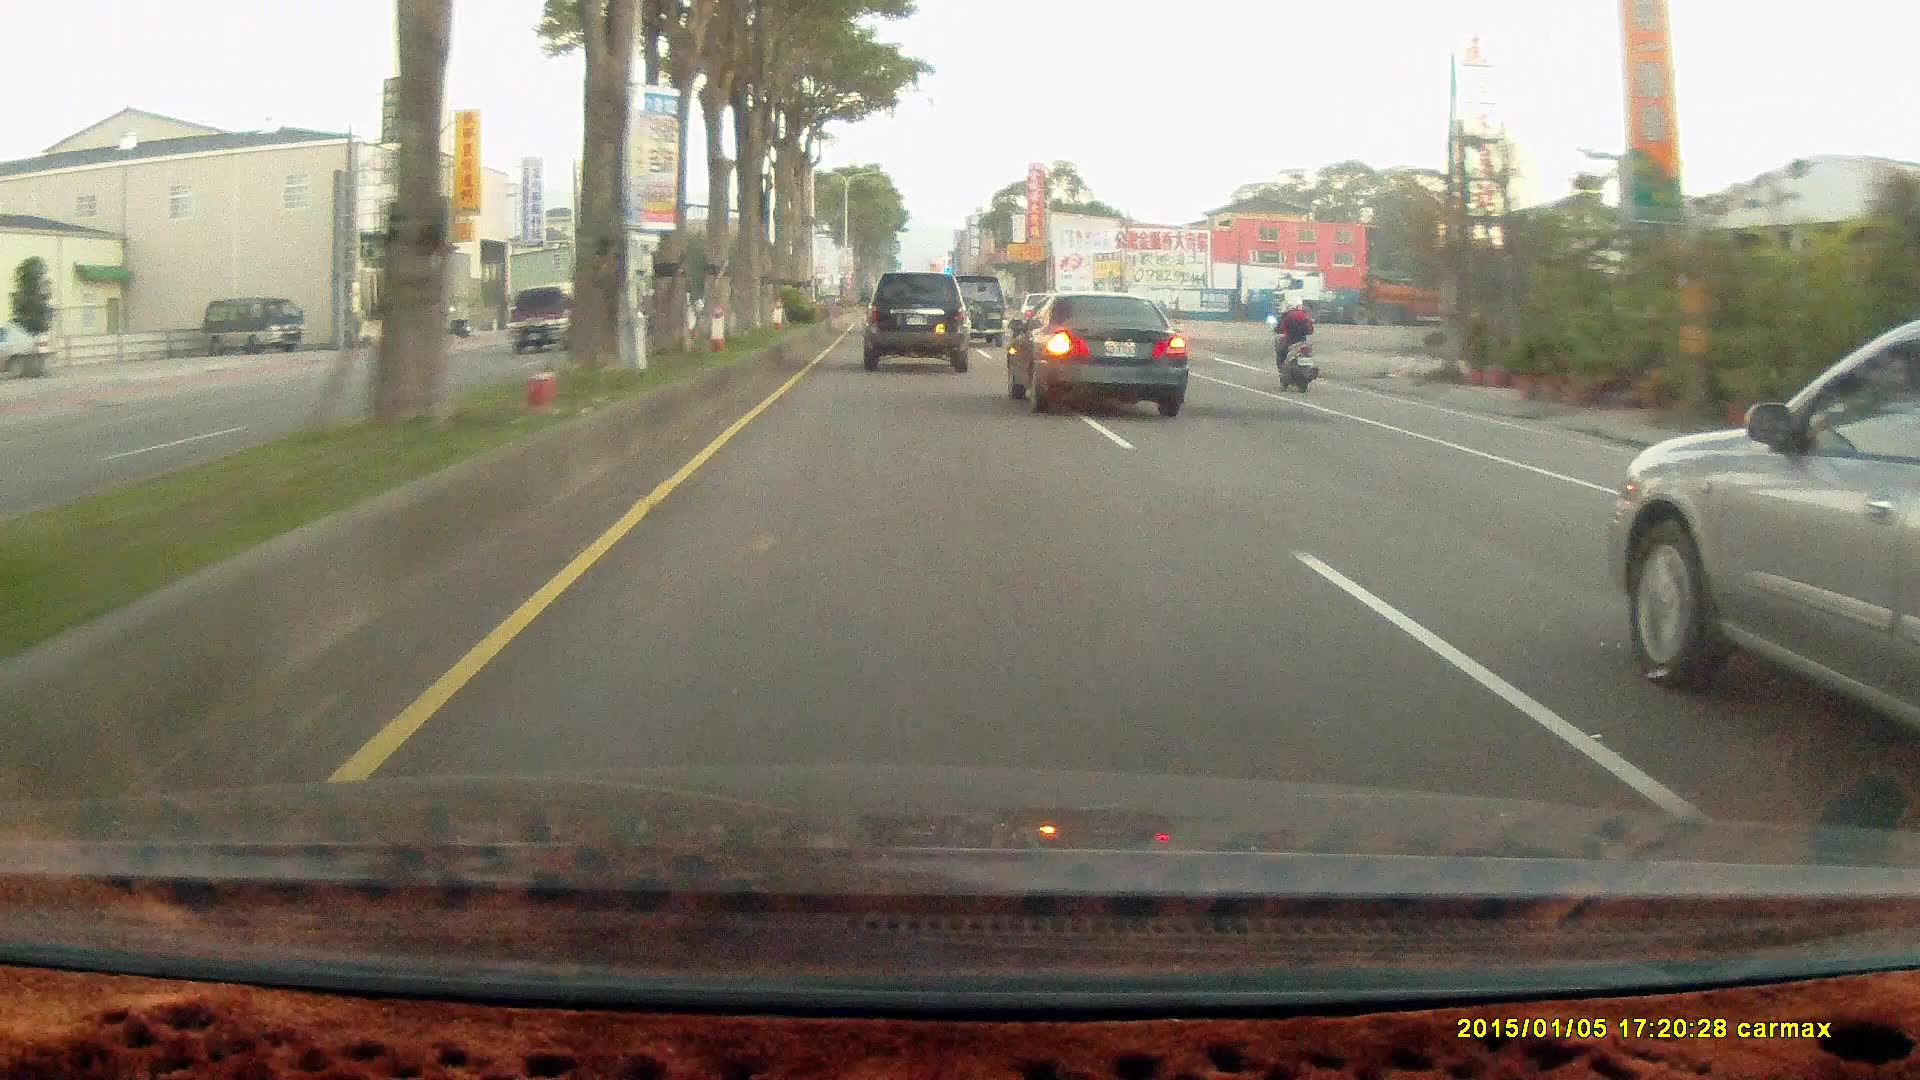rider: (1259, 289, 1327, 399), (1267, 289, 1321, 391)
vehicle: (1608, 312, 1919, 763), (1006, 289, 1193, 413), (1005, 290, 1188, 417), (1277, 264, 1518, 321), (862, 267, 974, 370), (858, 270, 967, 369), (201, 295, 304, 353), (201, 295, 305, 350), (506, 284, 584, 353), (944, 272, 1011, 347)
